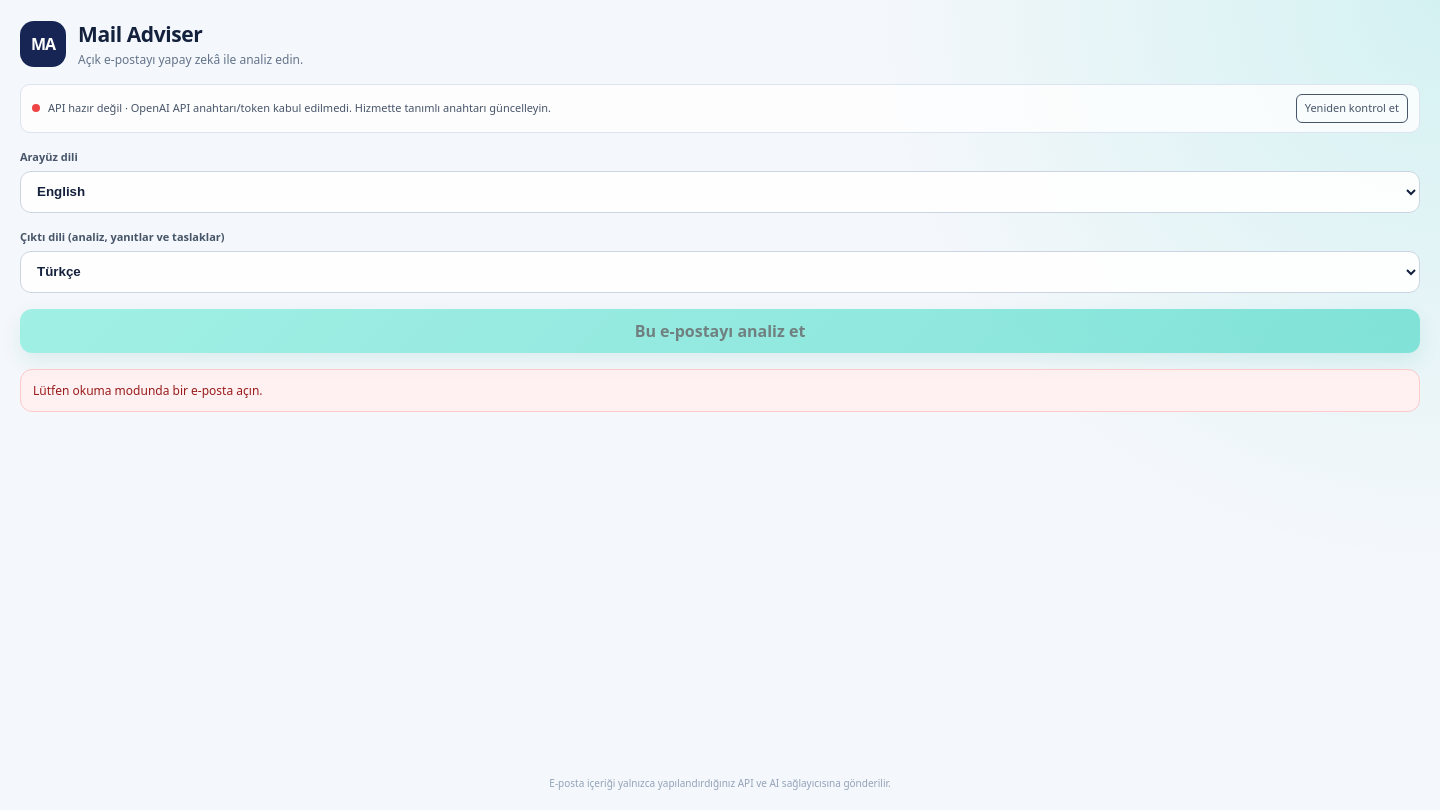
Scenario: retranslates existing API and Office errors without retrying operations
The image size is (1440, 810).
Select "English" in the dropdown labelled "Arayüz dili" at x=720, y=192, box x1=20 y1=170 x2=1420 y2=212
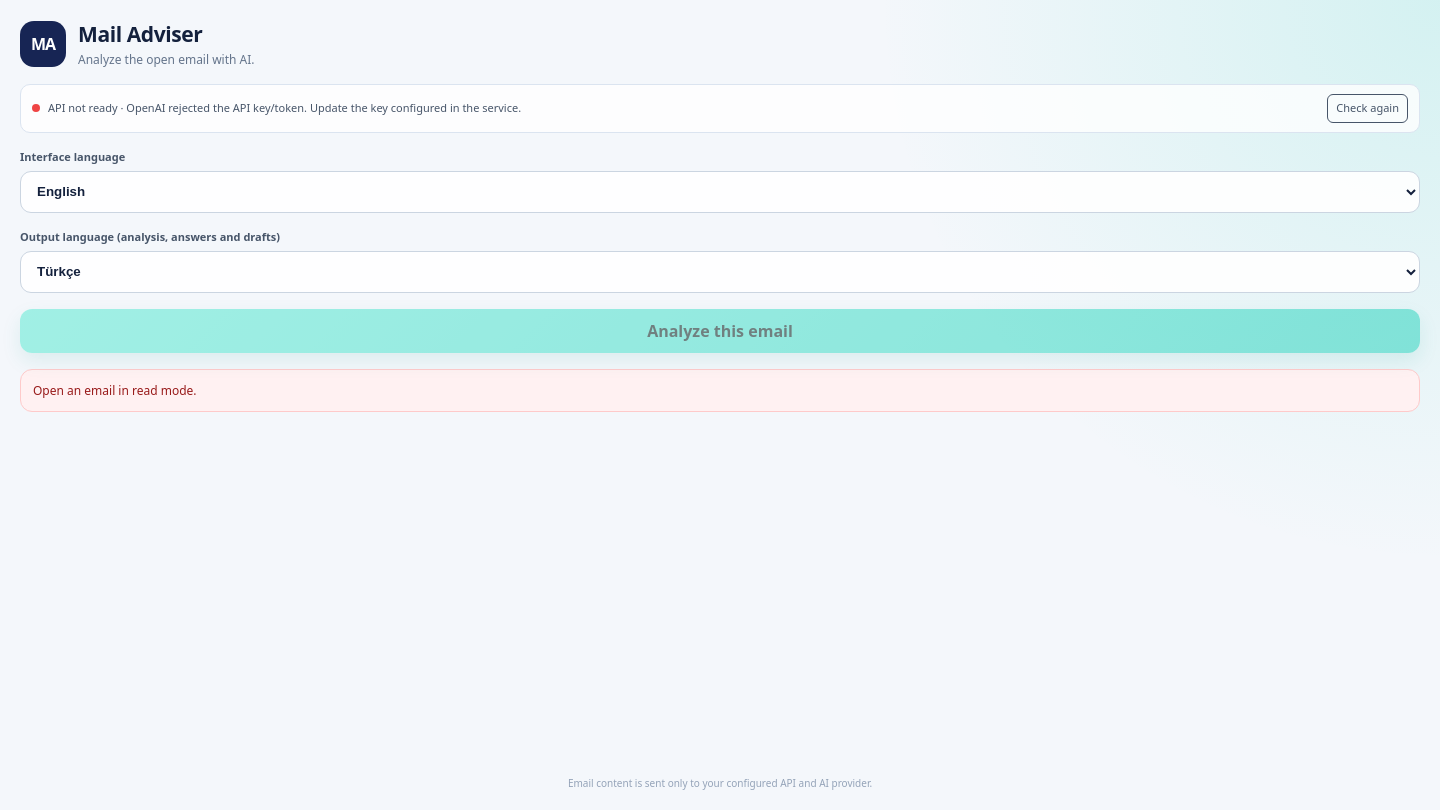
Expected: the text "Open an email in read mode." is shown, x1=20 y1=368 x2=1420 y2=412
Expected: the text "OpenAI rejected the API key/token. Update the key configured in the service." is shown, x1=48 y1=100 x2=521 y2=115
